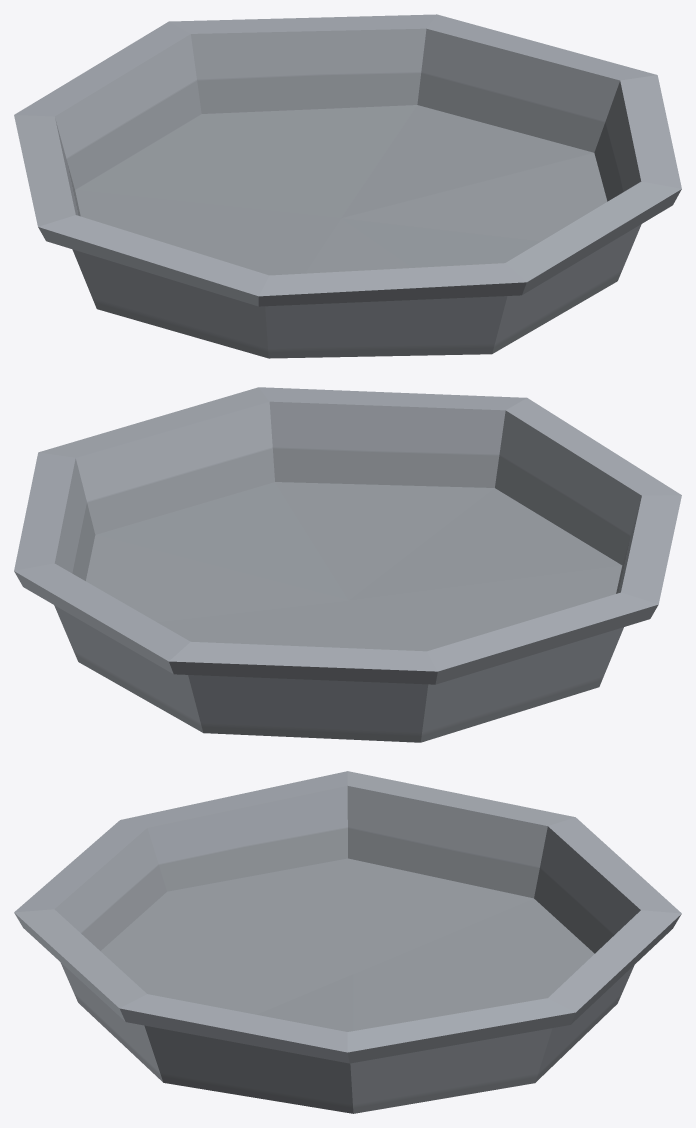
Rendered from SM_Prop_Plate_Large_04.glb.
3 renders of one model, top to bottom at view 1: azimuth 30°, elevation 25°; view 2: azimuth 150°, elevation 25°; view 3: azimuth 270°, elevation 25°, orthographic. The views are drawn at different scales.
Visible parts, largest first — view 1: SM_Prop_Plate_Large_04; view 2: SM_Prop_Plate_Large_04; view 3: SM_Prop_Plate_Large_04.
Boxes of the visible parts, x1=… form: SM_Prop_Plate_Large_04: x1=14, y1=14, x2=681, y2=358; SM_Prop_Plate_Large_04: x1=14, y1=387, x2=681, y2=742; SM_Prop_Plate_Large_04: x1=14, y1=771, x2=681, y2=1113.
Size of the model in its own units: 0.8758 by 0.1419 by 0.8764.
1 material, 1 textured.
